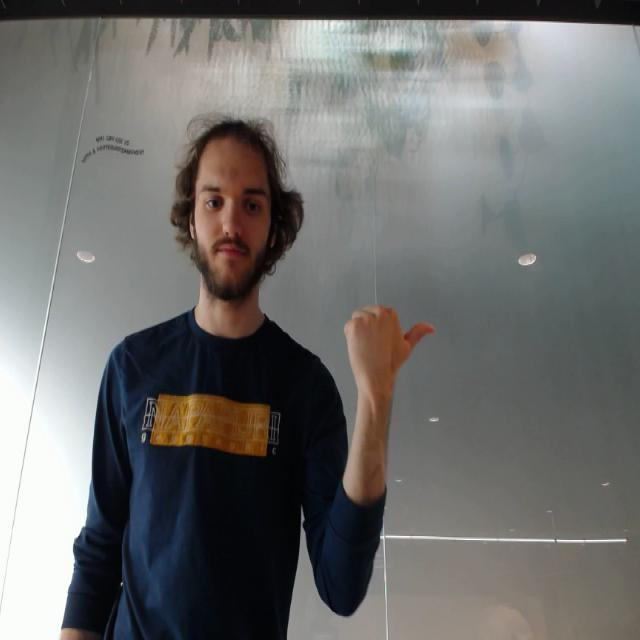right: (340, 300, 442, 388)
